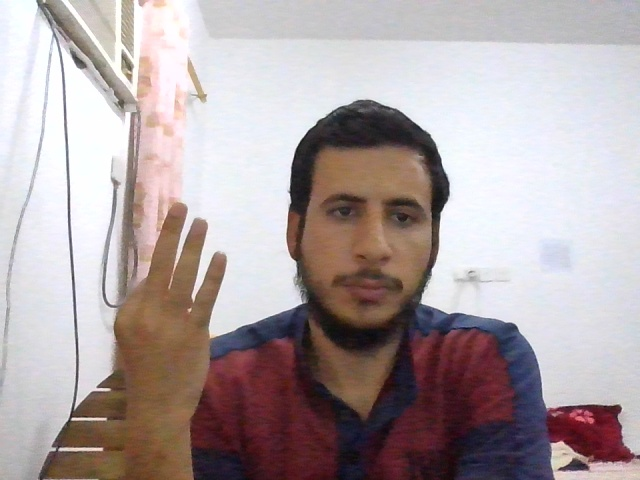Three: (116, 202, 228, 408)
